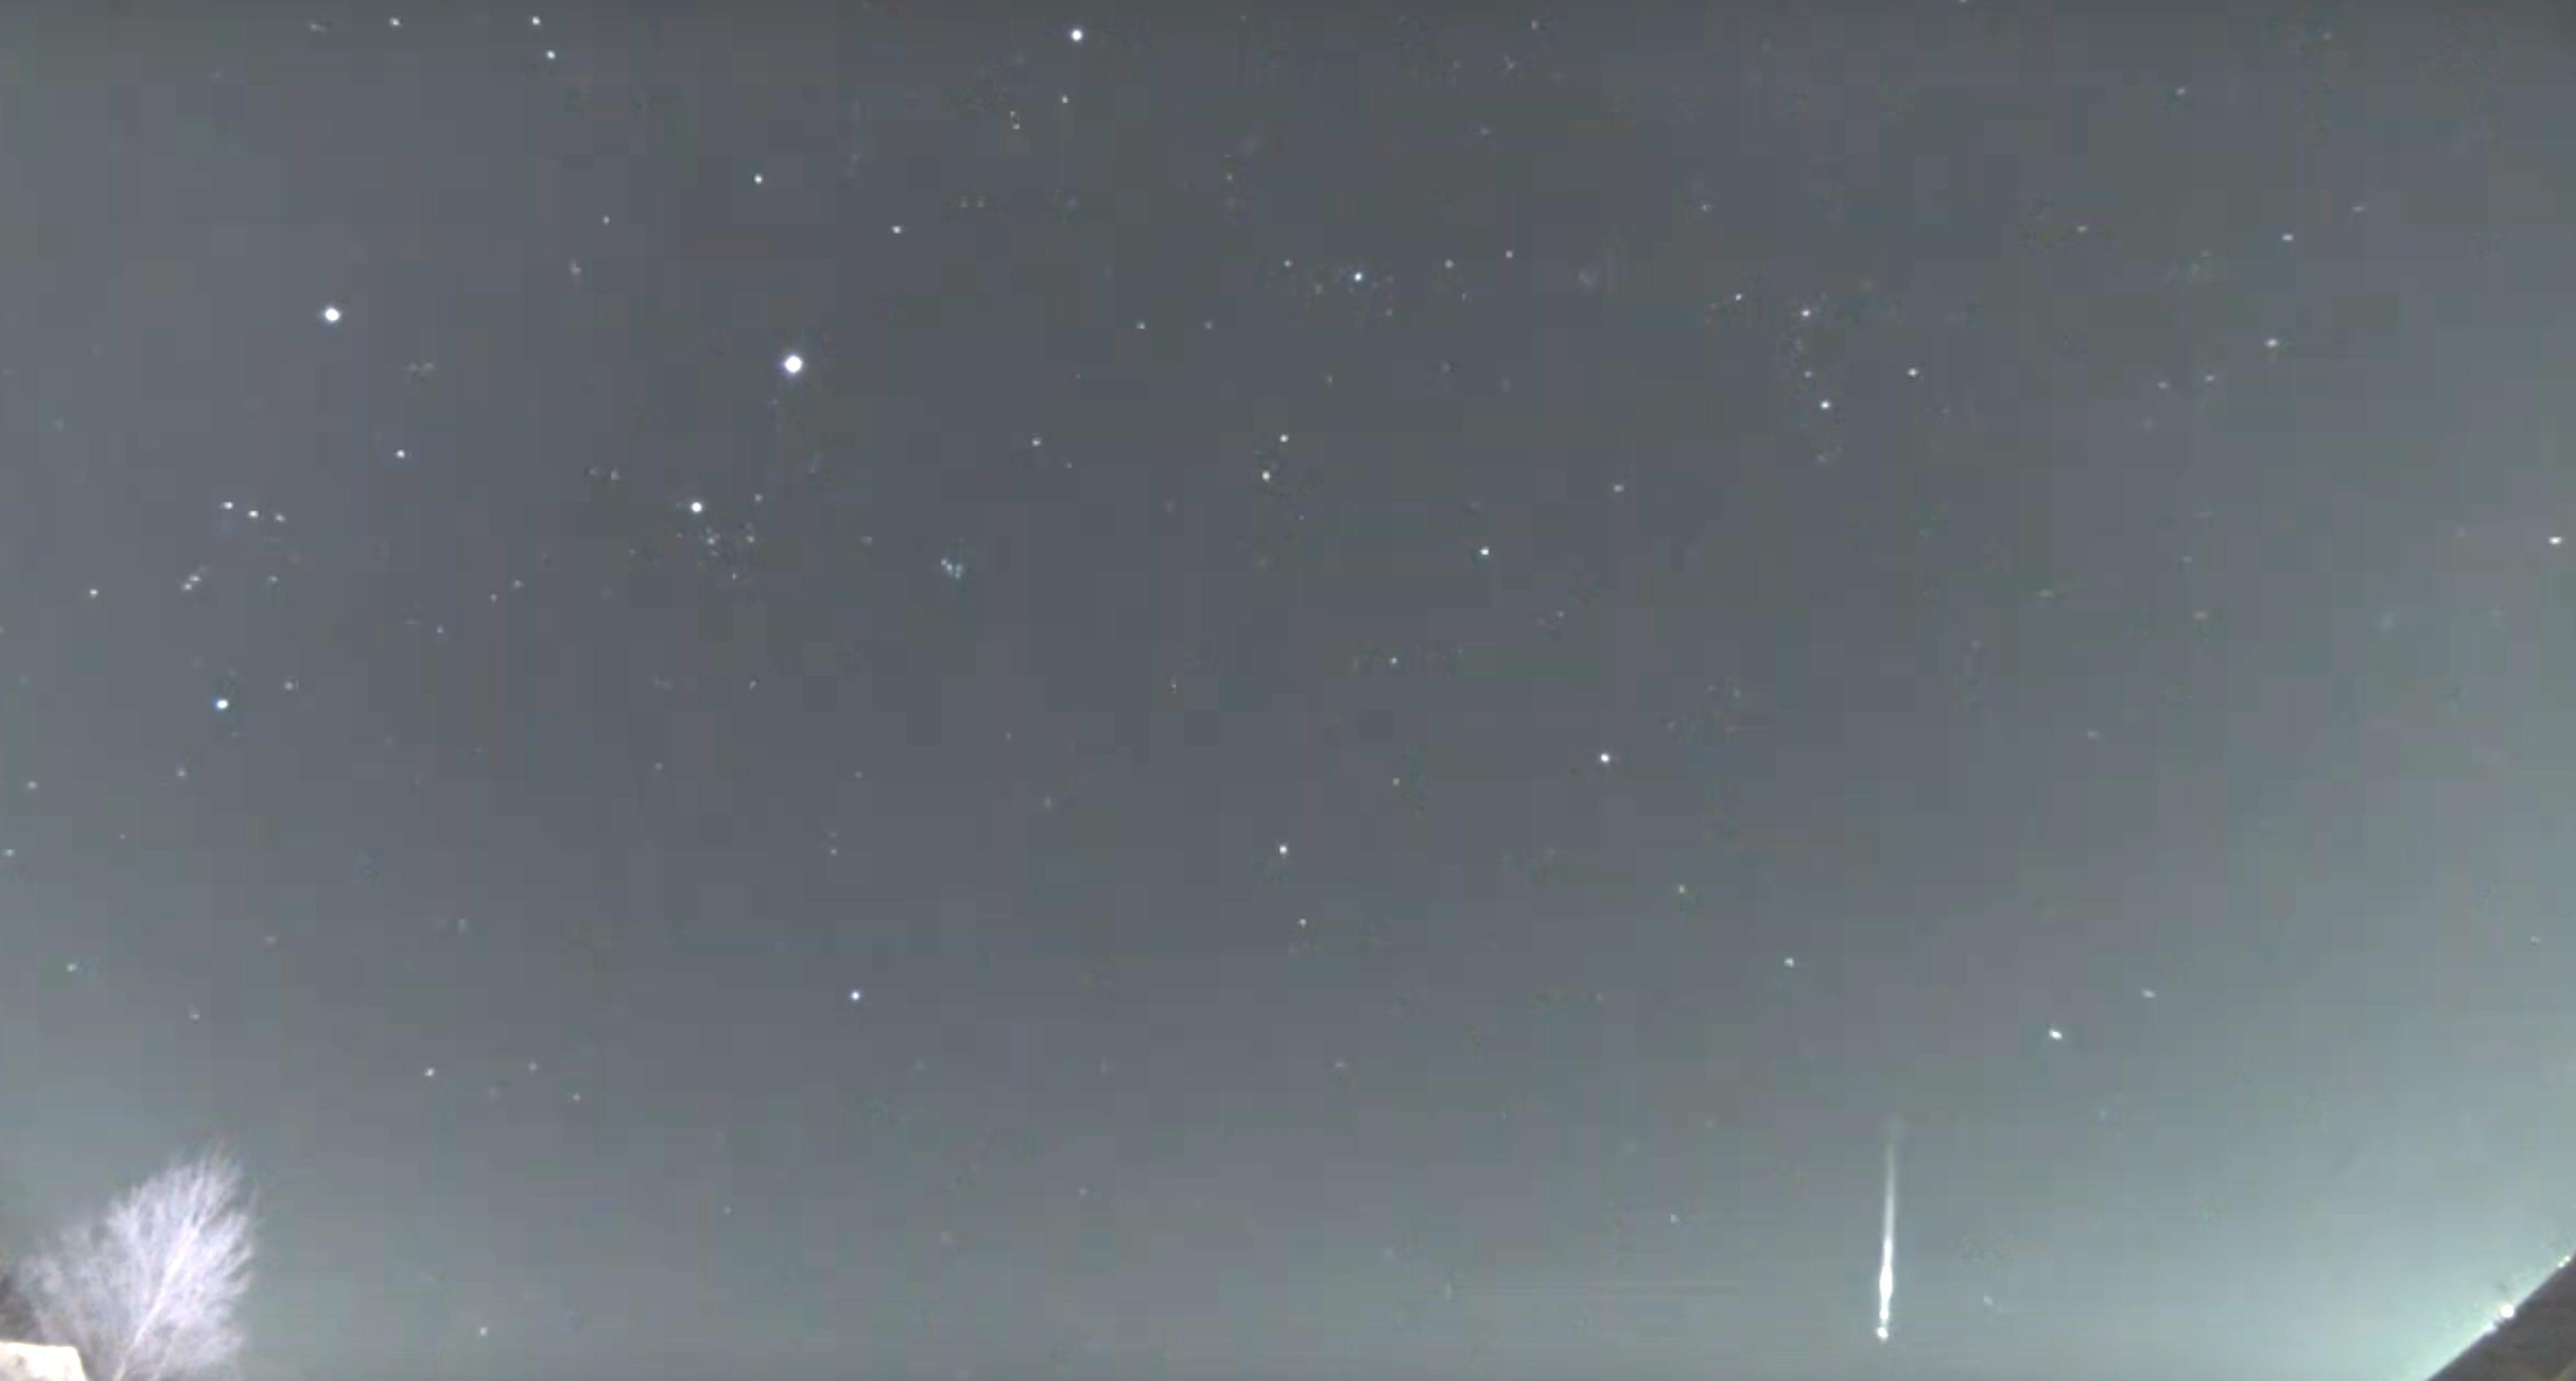meteorite: (1826, 1143, 1949, 1344)
